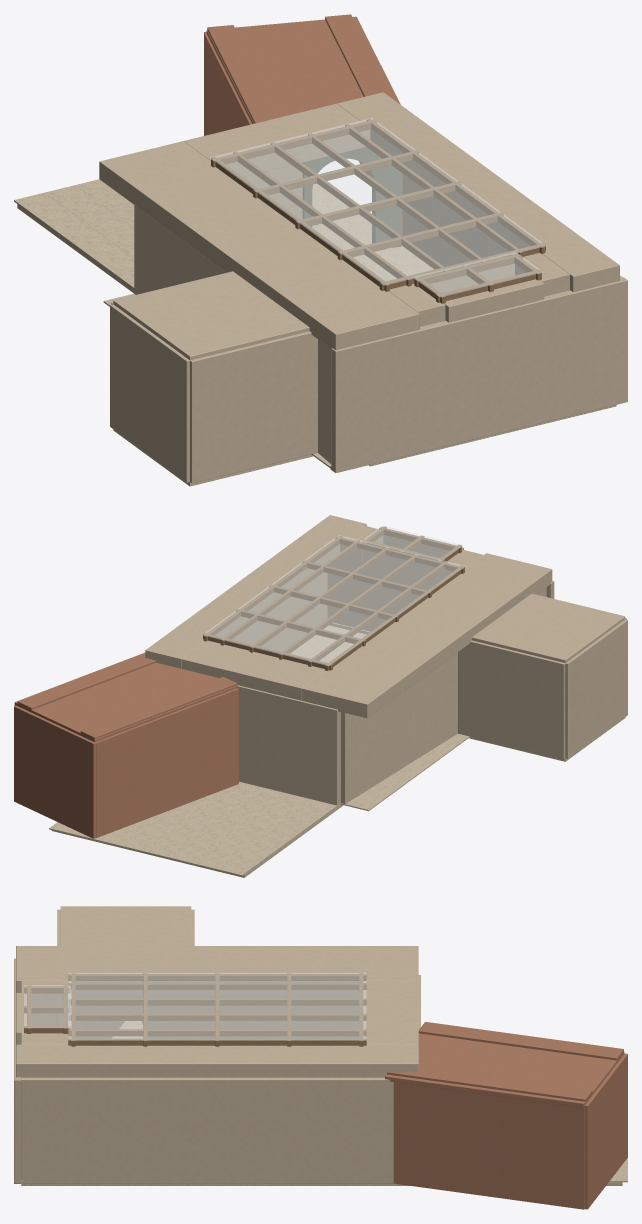
The model's file is room-mobile.glb.
The picture shows the model from 3 angles, top to bottom: view 1: azimuth 30°, elevation 25°; view 2: azimuth 150°, elevation 25°; view 3: azimuth 270°, elevation 25°; orthographic projection. The views are drawn at different scales.
Parts seen in each view (by area): view 1: Entrance wall, Skylight clear glass, Splayed wall ceiling closure, Left adjoining gallery entrance wall, Roof right, Left adjoining gallery far wall, Left adjoining gallery ceiling, Roof left, Sculpture room ceiling, Left wall, Roof far, Right wall (+31 smaller); view 2: Skylight clear glass, Second gallery left, Splayed wall ceiling closure, Left adjoining gallery back wall, Main exhibition wall, Left wall, Second gallery back, Roof right, Sculpture room ceiling, Left adjoining gallery far wall, Left adjoining gallery ceiling, Roof far (+23 smaller); view 3: Right wall, Skylight clear glass, Second gallery right, Roof right, Splayed wall ceiling closure, Sculpture room ceiling, Left wall, Left adjoining gallery ceiling, Second gallery back, Roof far, Roof left, Second roof left (+13 smaller).
Boxes of the visible parts, box(x1,y1,x2,y2) form: Entrance wall: box(331, 277, 627, 472); Skylight clear glass: box(210, 118, 546, 285); Splayed wall ceiling closure: box(99, 143, 409, 350); Left adjoining gallery entrance wall: box(190, 331, 317, 483); Roof right: box(337, 92, 619, 292); Left adjoining gallery far wall: box(110, 304, 189, 482); Left adjoining gallery ceiling: box(113, 271, 309, 360); Roof left: box(174, 141, 419, 340); Sculpture room ceiling: box(206, 16, 400, 123); Left wall: box(134, 205, 331, 463); Roof far: box(184, 103, 370, 176); Right wall: box(402, 174, 622, 277); Skylight clear glass: box(202, 535, 465, 665); Second gallery left: box(96, 688, 238, 837); Splayed wall ceiling closure: box(309, 555, 552, 718); Left adjoining gallery back wall: box(458, 640, 565, 759); Main exhibition wall: box(237, 685, 340, 805); Left wall: box(341, 587, 546, 803); Second gallery back: box(14, 705, 96, 838); Roof right: box(145, 515, 366, 668); Sculpture room ceiling: box(14, 652, 237, 742); Left adjoining gallery far wall: box(565, 619, 627, 758); Left adjoining gallery ceiling: box(472, 593, 625, 662); Roof far: box(182, 640, 325, 700); Right wall: box(21, 1077, 393, 1183); Skylight clear glass: box(68, 973, 366, 1040); Second gallery right: box(393, 1082, 584, 1209); Roof right: box(16, 1044, 418, 1077); Splayed wall ceiling closure: box(16, 946, 418, 976); Sculpture room ceiling: box(385, 1033, 624, 1108); Left wall: box(31, 996, 359, 1038); Left adjoining gallery ceiling: box(60, 906, 191, 945); Second gallery back: box(584, 1053, 627, 1209); Roof far: box(363, 981, 418, 1044); Roof left: box(16, 961, 418, 995); Second roof left: box(418, 1022, 623, 1062).
Size of the model in its own units: 17.95 by 5.42 by 23.48.
Materials: 6 (5 with a texture image).
